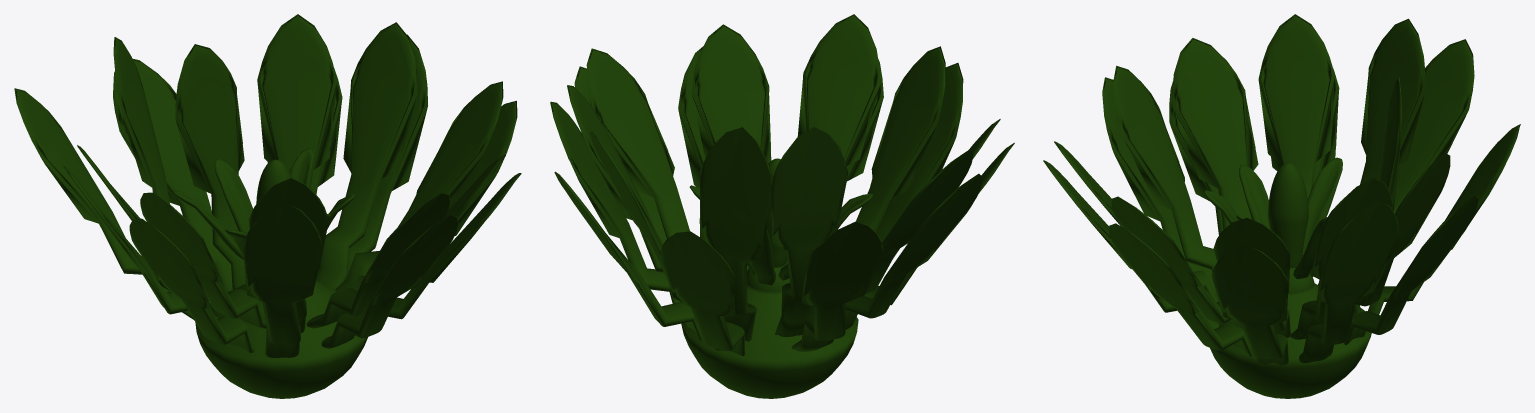
The model's file is Plant01.fbx.
The picture shows the model from 3 angles, left to right: view 1: azimuth 30°, elevation 25°; view 2: azimuth 150°, elevation 25°; view 3: azimuth 270°, elevation 25°; orthographic projection. The views are drawn at different scales.
Visible parts, largest first — view 1: pCube417; view 2: pCube417; view 3: pCube417.
Boxes of the visible parts, box(x1,y1,x2,y2) form: pCube417: box(14, 14, 521, 398); pCube417: box(550, 14, 1014, 398); pCube417: box(1043, 14, 1520, 398).
Bounding box in the file's own units: 1042 × 781 × 1048.
